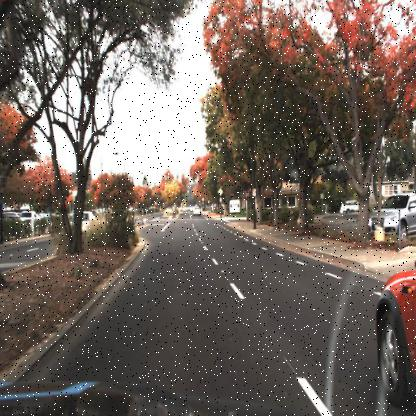car: (372, 246, 415, 410), (366, 191, 416, 243), (66, 212, 96, 239), (338, 200, 360, 214), (192, 203, 203, 218)
